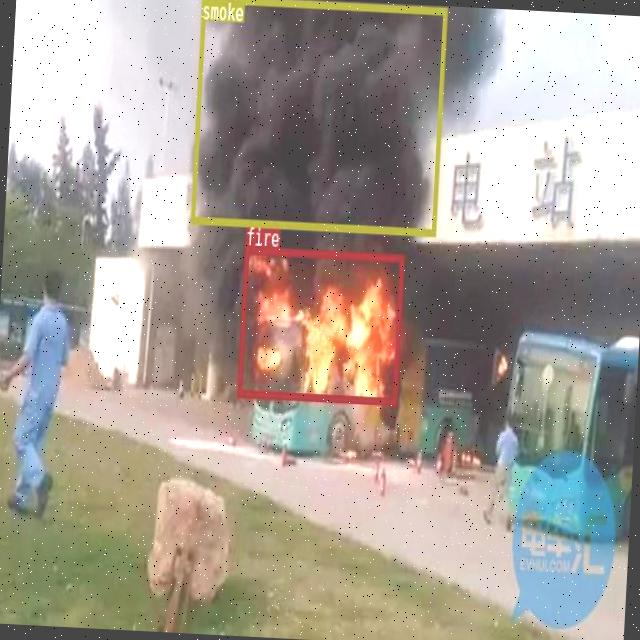fire: (236, 246, 403, 404)
smoke: (189, 0, 446, 235)
